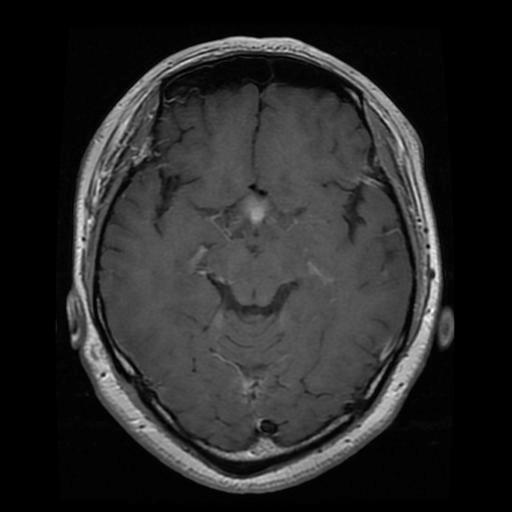Tumour-Pituitary: (250, 207, 266, 226)
